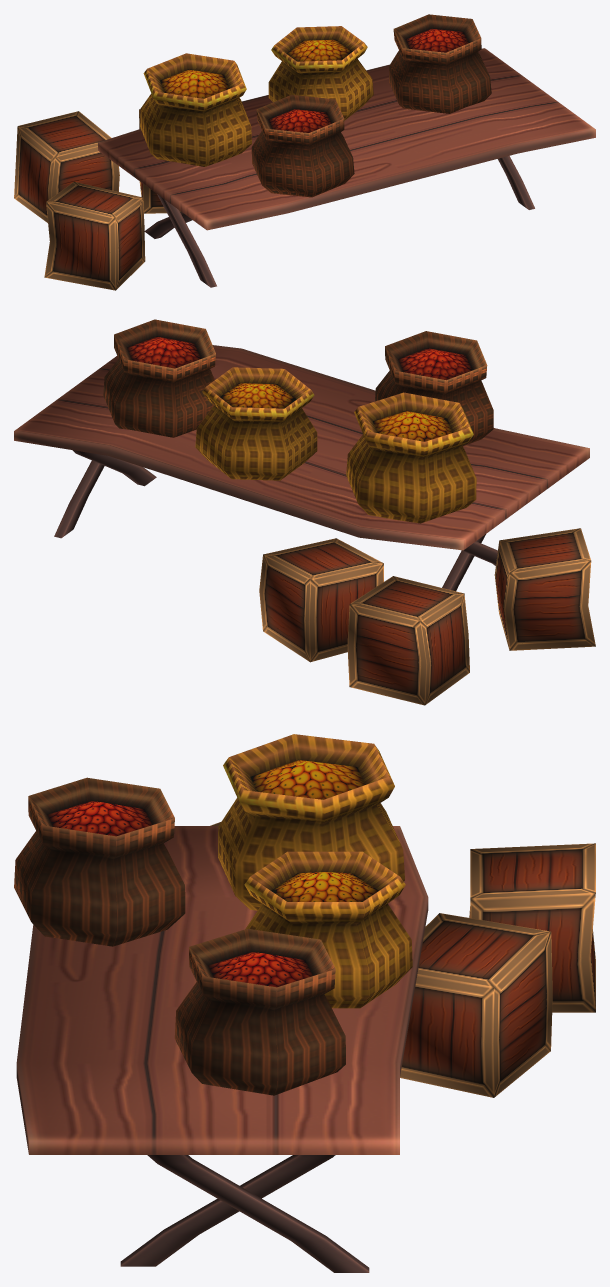
The model's file is Market_03.FBX.
The picture shows the model from 3 angles, top to bottom: view 1: azimuth 30°, elevation 25°; view 2: azimuth 150°, elevation 25°; view 3: azimuth 270°, elevation 25°; orthographic projection. The views are drawn at different scales.
Parts seen in each view (by area): view 1: Market_03; view 2: Market_03; view 3: Market_03.
Boxes of the visible parts, box(x1,y1,x2,y2) form: Market_03: box(14, 14, 595, 290); Market_03: box(14, 319, 595, 705); Market_03: box(14, 734, 595, 1272).
Bounding box in the file's own units: 1.27 × 0.4258 × 0.814.
